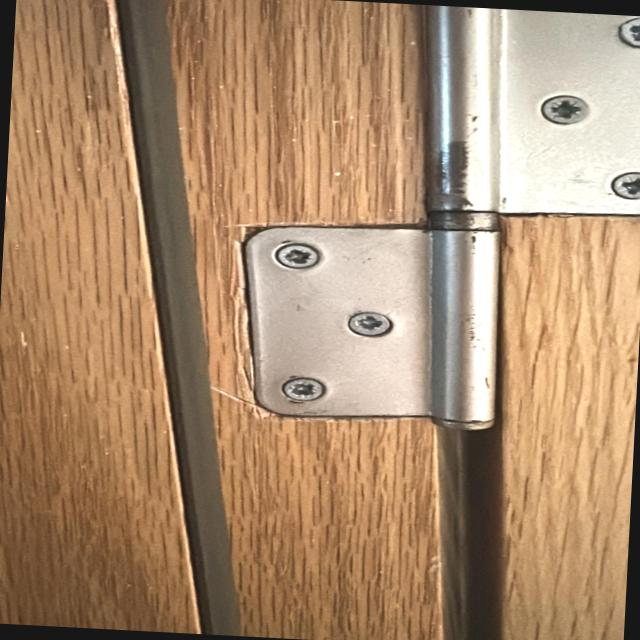Pozidriv: (269, 372, 341, 409), (340, 304, 402, 346), (602, 158, 640, 215), (267, 240, 329, 274), (538, 92, 596, 124), (612, 15, 640, 51)
